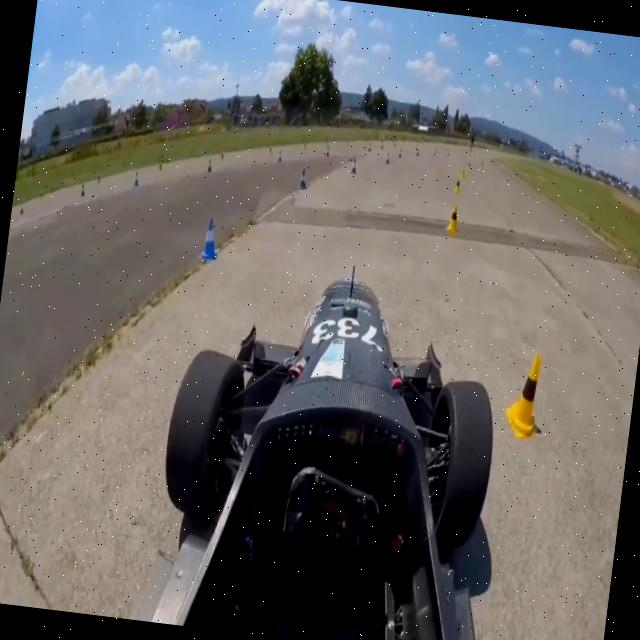blue_cone: (196, 213, 224, 264), (297, 166, 309, 190), (349, 156, 358, 176)
yellow_cone: (501, 349, 547, 444), (445, 202, 461, 235), (453, 176, 462, 196)
